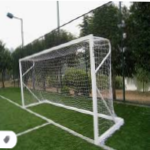goals: (18, 33, 123, 144)
